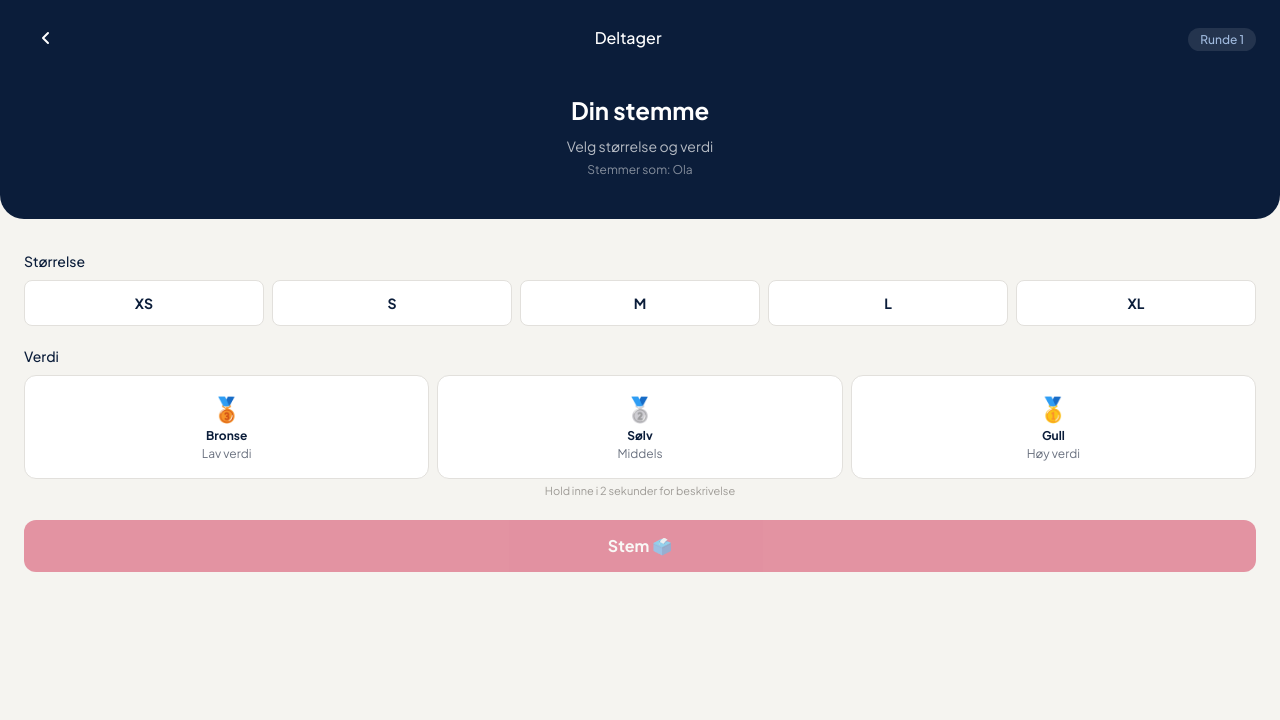
it: VotePage – stemmeform (session.started === true) › retryer claim etter transient feil og blokkerer stemmegivning frem til claim lykkes
Check: the button "Stem 🗳️" is disabled, box [24,520,1256,572]
Click the button named "størrelse M": point(640, 303) [520,280,760,326]
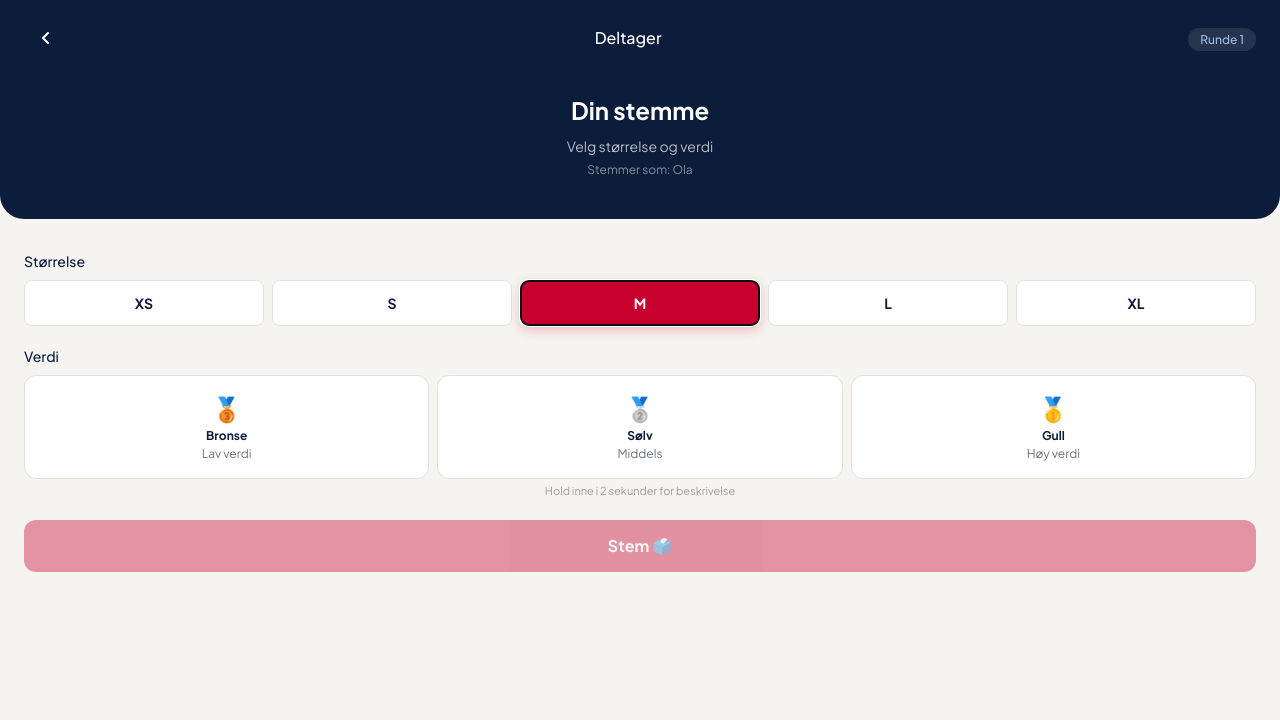
Click the button with aria-label "verdi gull": point(1053, 427) [851,375,1256,479]
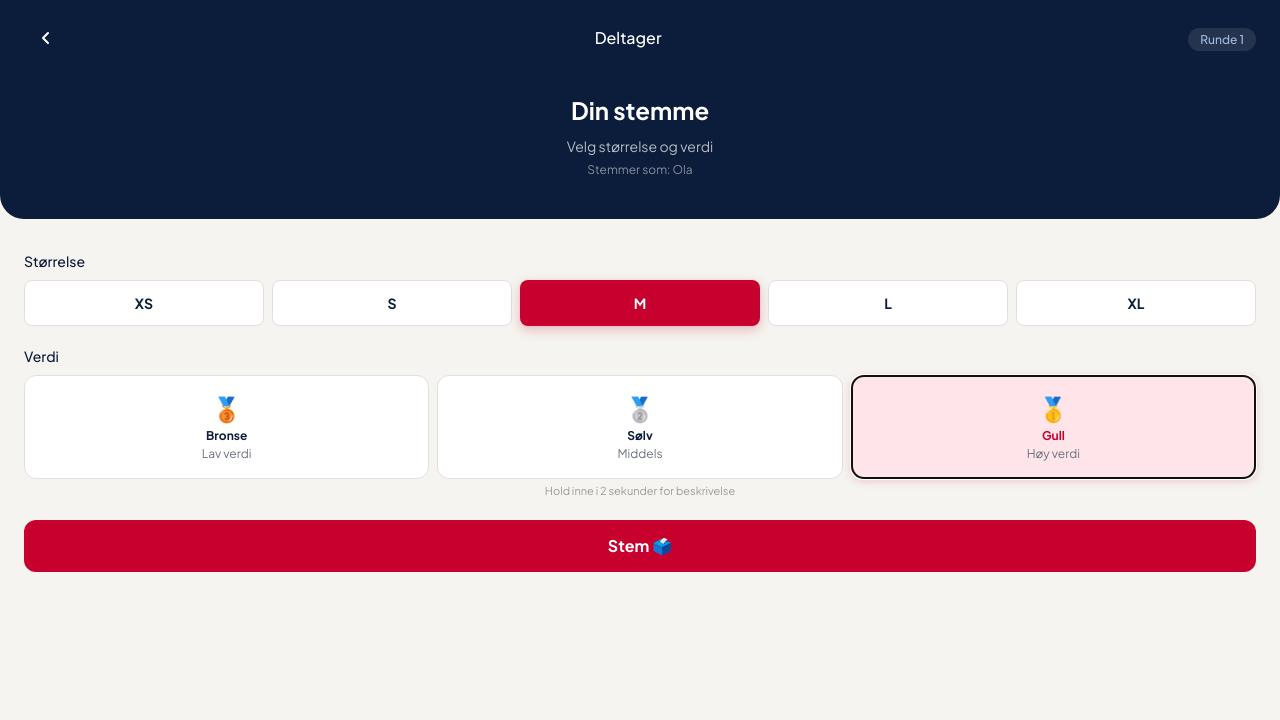
Check: the button "Stem 🗳️" is enabled, box [24,520,1256,572]
